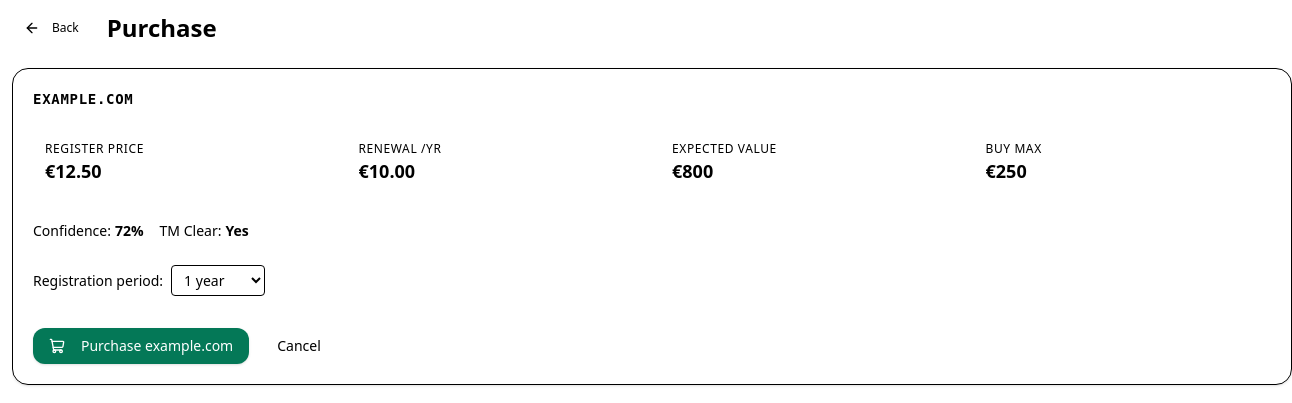
Test: BuyPage › shows the purchase complete screen after a successful execution
The image size is (1292, 403).
Click the button "Purchase example.com" at (141, 346), box [33,328,249,364]
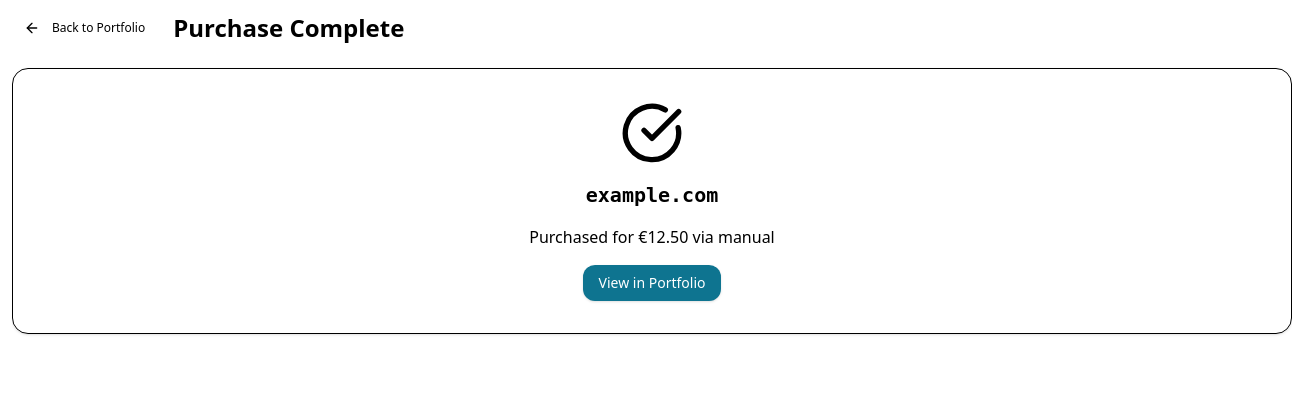
Check: the heading "Purchase Complete" is shown, box [173,12,404,44]
